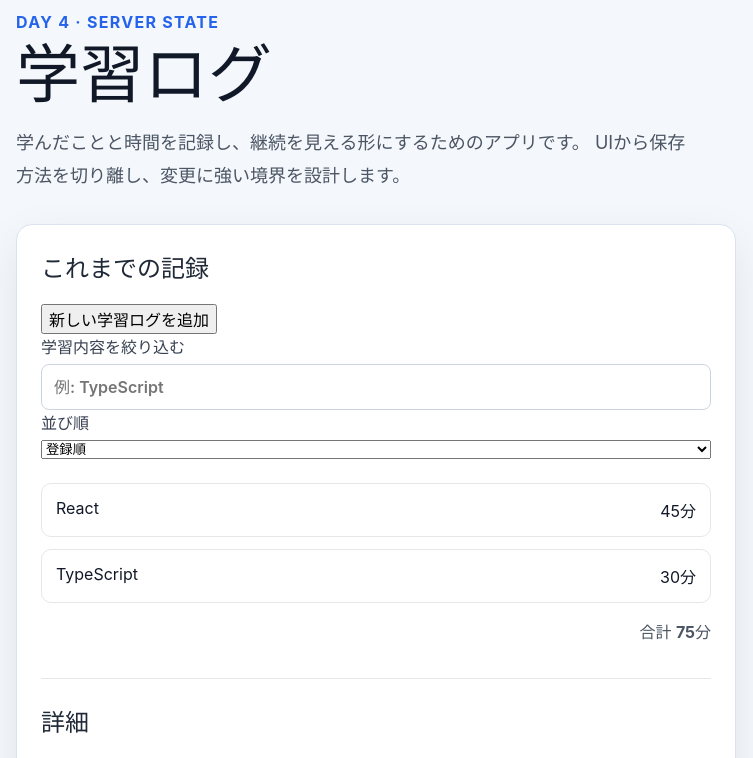
Test: StudyLogPage › 学習内容で一覧を絞り込む
Expected: the text "React" is shown, top-left (56, 498), bottom-right (99, 518)
Step 1. Type "Type" into the search field labelled "学習内容を絞り込む" → [376, 387], box top-left (41, 364), bottom-right (711, 410)
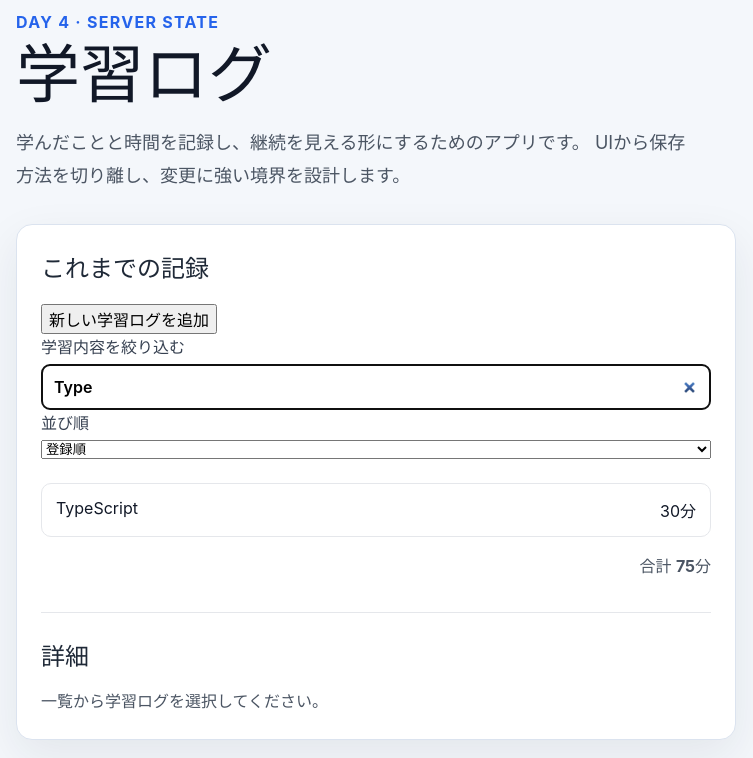
Expected: the text "TypeScript" is shown, top-left (56, 498), bottom-right (138, 518)
Result: the button "React" is gone
